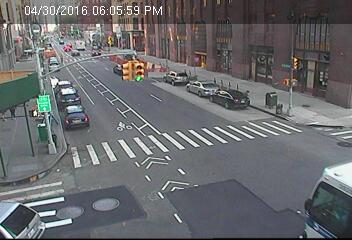neg: (314, 63, 335, 90), (282, 98, 296, 117), (263, 90, 277, 109), (165, 25, 179, 44), (136, 36, 147, 51)
pos: (6, 106, 17, 120), (1, 112, 7, 122)
